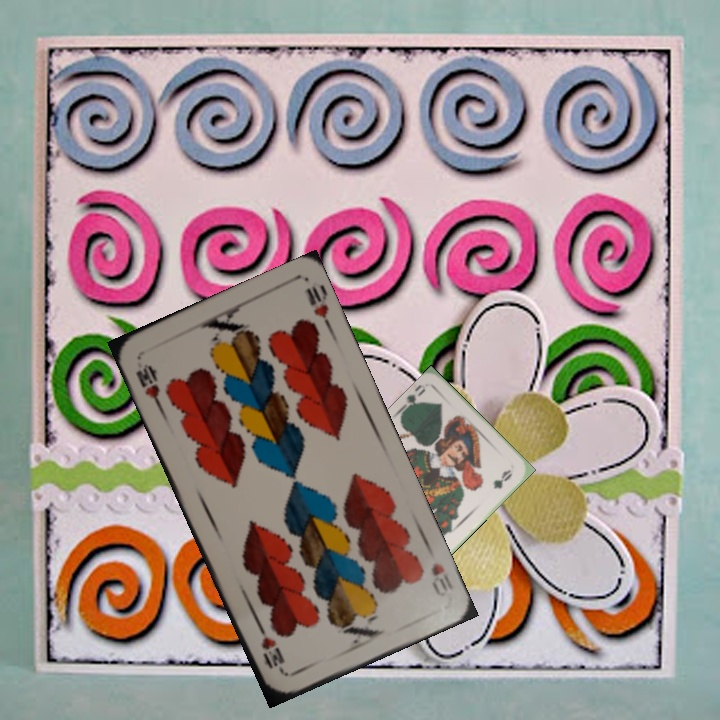GO: (396, 385, 428, 415)
H10: (131, 360, 165, 411), (427, 558, 456, 599)
